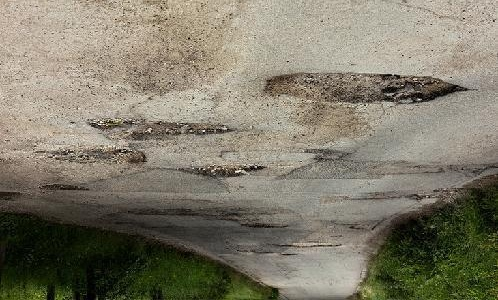pothole: (259, 69, 468, 106), (85, 115, 236, 143), (49, 144, 147, 165), (176, 163, 265, 178), (301, 145, 350, 163), (36, 182, 87, 193), (273, 241, 342, 248), (238, 220, 289, 229), (0, 192, 22, 202)
